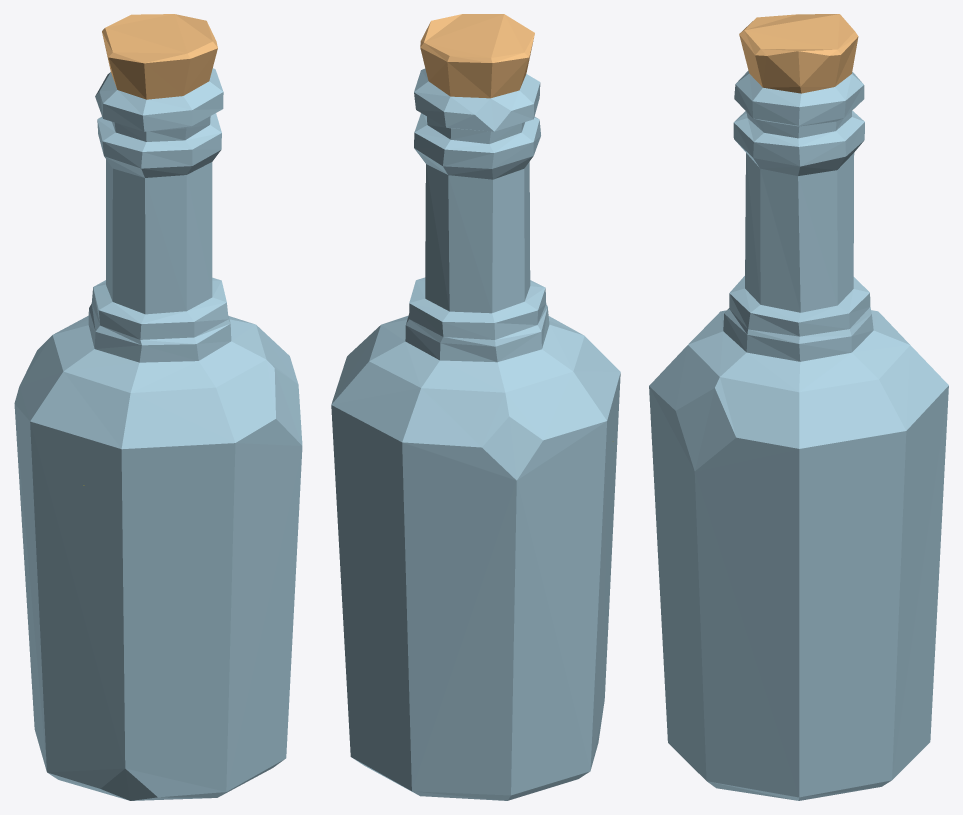
The model's file is SFHW_Bottle_Herbs_013.fbx.
3 views of the same model, side by side, from view 1: azimuth 30°, elevation 25°; view 2: azimuth 150°, elevation 25°; view 3: azimuth 270°, elevation 25° (orthographic).
Visible parts, largest first — view 1: SFHW_Bottle_Herbs_013; view 2: SFHW_Bottle_Herbs_013; view 3: SFHW_Bottle_Herbs_013.
Part boxes in pixels (x1,y1,x2,y2): SFHW_Bottle_Herbs_013: [14, 14, 302, 800]; SFHW_Bottle_Herbs_013: [331, 14, 620, 800]; SFHW_Bottle_Herbs_013: [649, 14, 948, 800].
Size of the model in its own units: 12.48 by 33.25 by 12.44.
